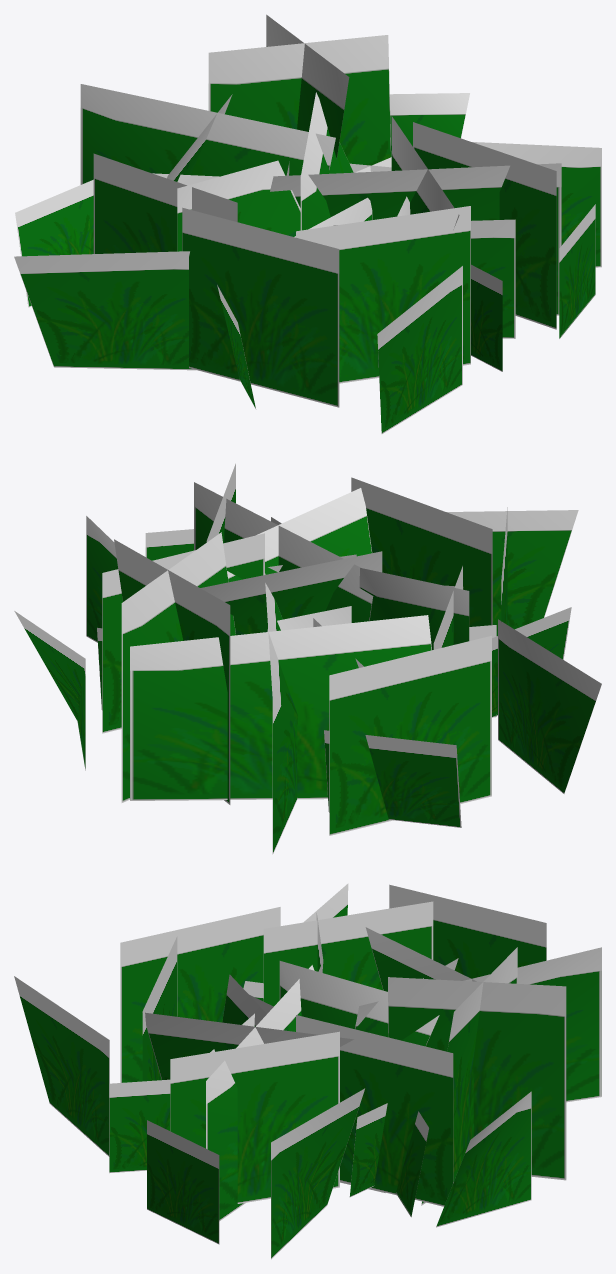
File: gras02.obj
3 renders of one model, top to bottom at view 1: azimuth 30°, elevation 25°; view 2: azimuth 150°, elevation 25°; view 3: azimuth 270°, elevation 25°, orthographic. The views are drawn at different scales.
Visible parts, largest first — view 1: Duplicate01, Duplicate03, Duplicate02, Duplicate04, Duplicate05, Box02; view 2: Duplicate01, Duplicate03, Duplicate04, Duplicate02, Box02, Duplicate05; view 3: Duplicate02, Duplicate01, Duplicate04, Duplicate03, Duplicate05, Box02.
Part boxes in pixels (box(x1,y1,x2,y2)): Duplicate01: box(14, 153, 502, 433); Duplicate03: box(80, 35, 391, 184); Duplicate02: box(177, 122, 601, 409); Duplicate04: box(266, 14, 561, 315); Duplicate05: box(286, 93, 469, 175); Box02: box(300, 92, 353, 230); Duplicate01: box(313, 477, 601, 835); Duplicate03: box(114, 539, 431, 854); Duplicate04: box(121, 482, 373, 802); Duplicate02: box(86, 463, 571, 733); Box02: box(200, 551, 382, 635); Duplicate05: box(14, 606, 351, 770); Duplicate02: box(147, 913, 453, 1259); Duplicate01: box(14, 883, 546, 1173); Duplicate04: box(142, 965, 566, 1221); Duplicate03: box(349, 927, 601, 1205); Duplicate05: box(436, 1091, 531, 1227); Box02: box(279, 961, 439, 1046).
Bounding box in the file's own units: 94.96 × 33.62 × 89.75.
